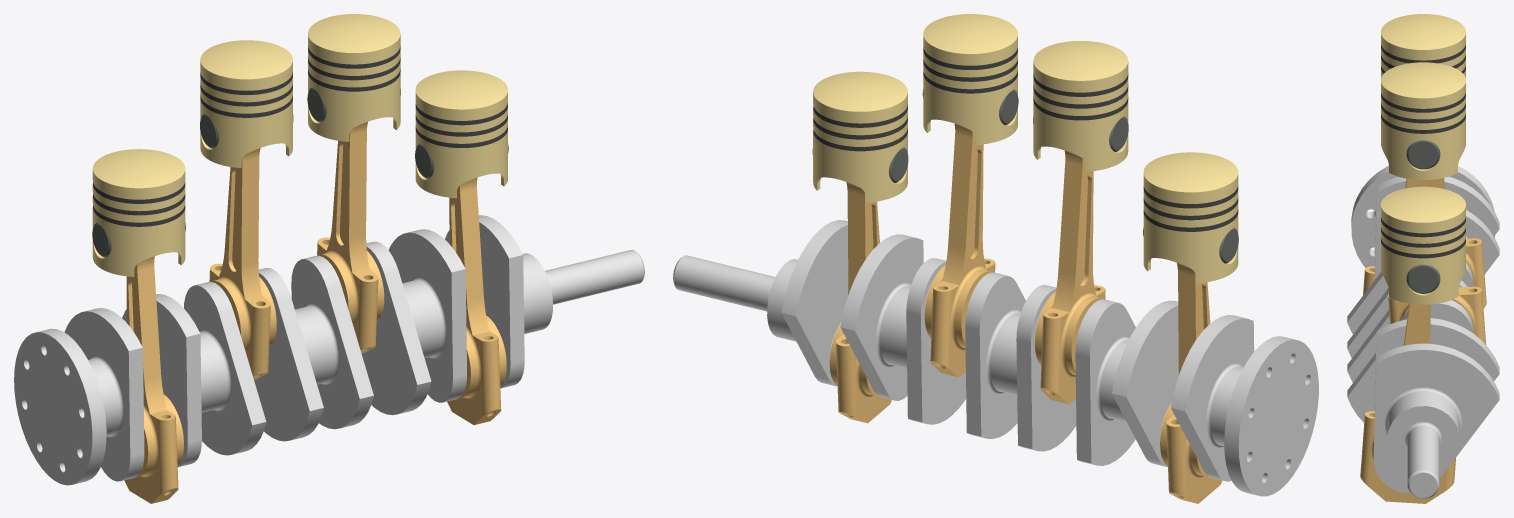
Rendered from piece_1.gltf.
3 views of the same model, side by side, from view 1: azimuth 30°, elevation 25°; view 2: azimuth 150°, elevation 25°; view 3: azimuth 270°, elevation 25° (orthographic). The views are drawn at different scales.
Visible parts, largest first — view 1: Crankshaft-2, Piston-1 (×4), Connecting Rod-1 (×4), Connecting Rod Cap-1 (×4); view 2: Crankshaft-2, Piston-1 (×4), Connecting Rod-1 (×4), Connecting Rod Cap-1 (×4); view 3: Crankshaft-2, Piston-1 (×3), Connecting Rod-1 (×4), Connecting Rod Cap-1 (×3), Piston Pin-1 (×2), Piston Ring-3 (×3), Piston Ring-1 (×2), Piston Ring-2 (×2).
Part boxes in pixels (<box>): Crankshaft-2: <box>14,215,644,485</box>; Piston-1 (×4): <box>92,14,507,276</box>; Connecting Rod-1 (×4): <box>126,122,506,450</box>; Connecting Rod Cap-1 (×4): <box>124,301,506,503</box>; Crankshaft-2: <box>673,220,1318,496</box>; Piston-1 (×4): <box>813,14,1238,283</box>; Connecting Rod-1 (×4): <box>829,124,1210,456</box>; Connecting Rod Cap-1 (×4): <box>829,314,1221,503</box>; Crankshaft-2: <box>1347,165,1499,498</box>; Piston-1 (×3): <box>1381,14,1465,304</box>; Connecting Rod-1 (×4): <box>1363,178,1483,446</box>; Connecting Rod Cap-1 (×3): <box>1360,269,1486,503</box>; Piston Pin-1 (×2): <box>1406,140,1440,293</box>; Piston Ring-3 (×3): <box>1381,44,1465,237</box>; Piston Ring-1 (×2): <box>1381,103,1465,247</box>; Piston Ring-2 (×2): <box>1381,114,1465,258</box>.
Size of the model in its own units: 0.619 by 0.4137 by 0.152.
